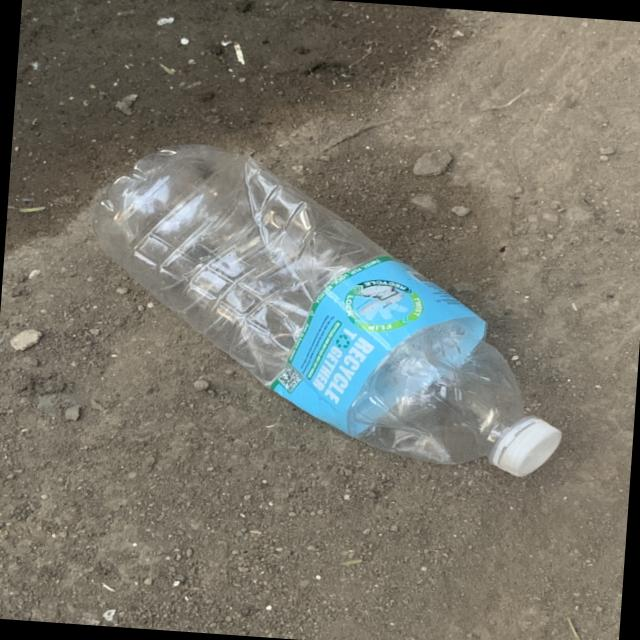Bottle: (92, 145, 561, 476)
